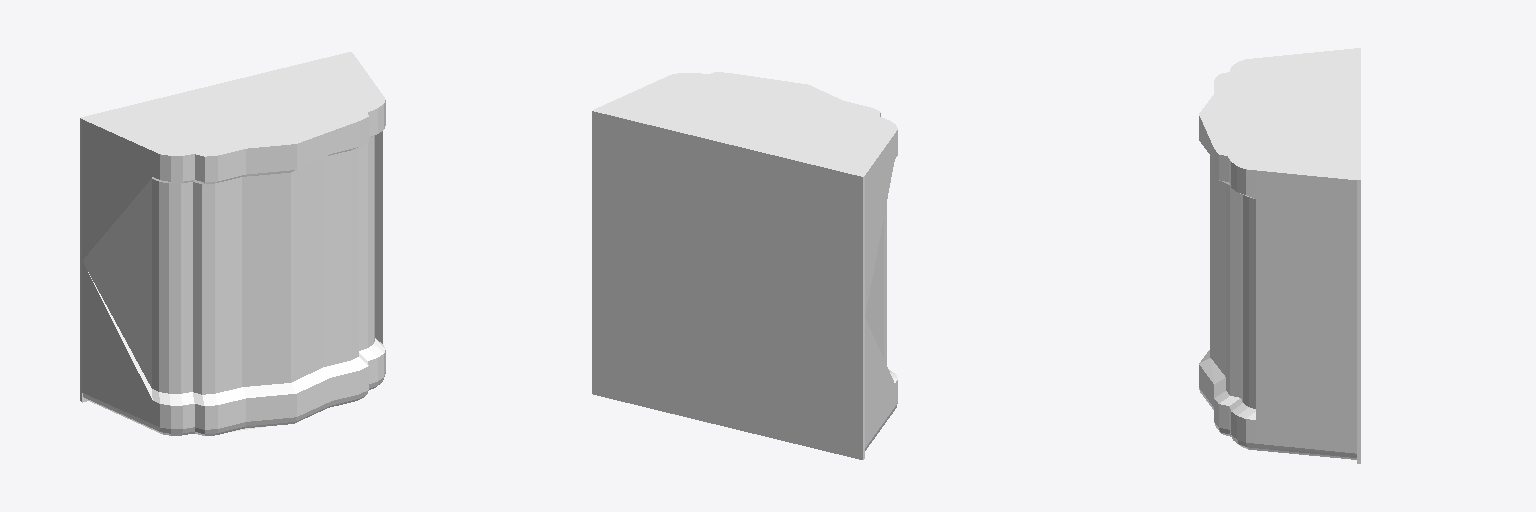
Rendered from oriel1.obj.
The picture shows the model from 3 angles: view 1: azimuth 30°, elevation 25°; view 2: azimuth 150°, elevation 25°; view 3: azimuth 270°, elevation 25°; orthographic projection.
Visible parts, largest first — view 1: oriel1_3; view 2: oriel1_3; view 3: oriel1_3.
Boxes of the visible parts, <box> form: oriel1_3: <box>80,52,385,435</box>; oriel1_3: <box>592,72,897,459</box>; oriel1_3: <box>1199,48,1360,463</box>.
Size of the model in its own units: 1.4 by 1.4 by 0.7266.